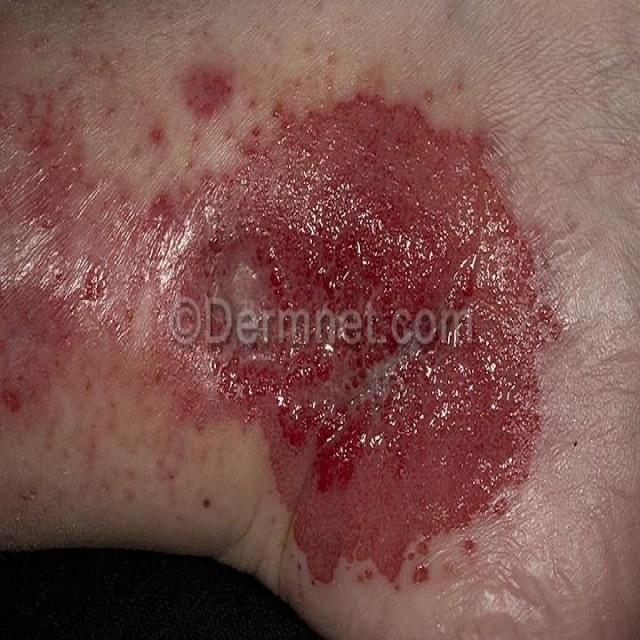Eczema: (0, 78, 560, 586)
